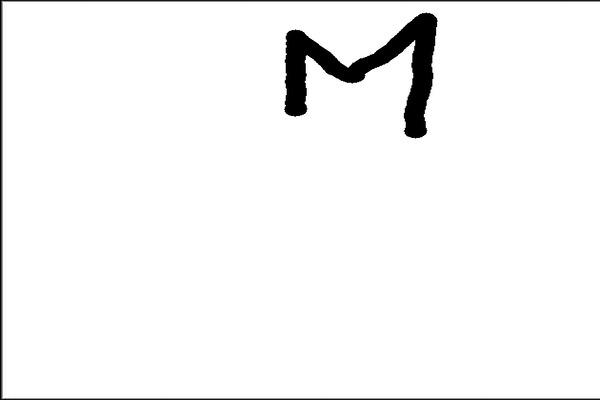M: (278, 10, 444, 137)
